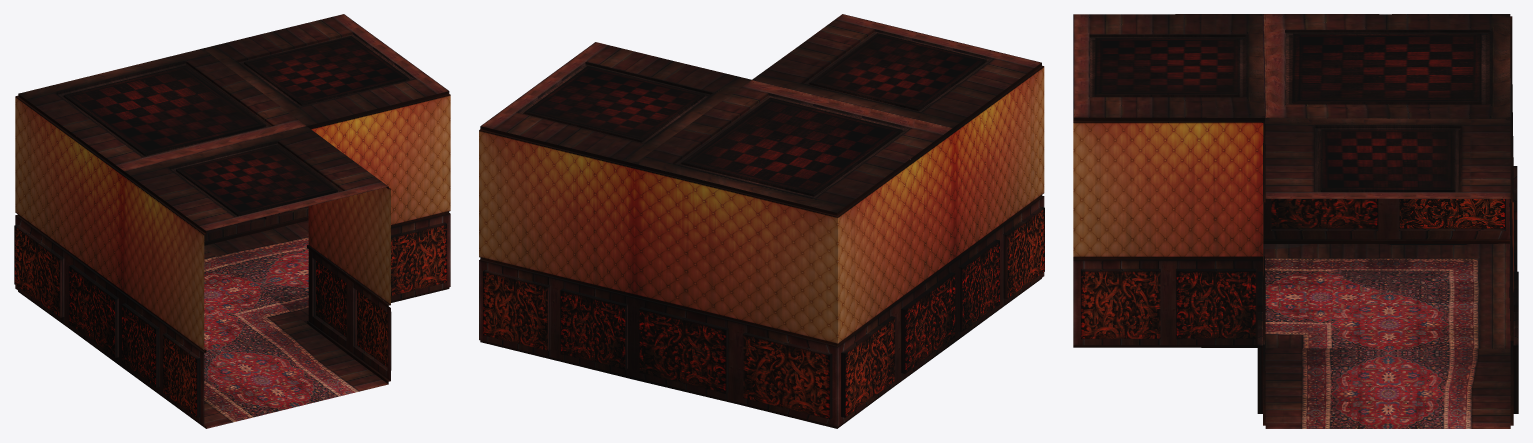
File: HallCorner.FBX
The picture shows the model from 3 angles, left to right: view 1: azimuth 30°, elevation 25°; view 2: azimuth 150°, elevation 25°; view 3: azimuth 270°, elevation 25°; orthographic projection. The views are drawn at different scales.
Parts seen in each view (by area): view 1: HallCornerWithDoors; view 2: HallCornerWithDoors; view 3: HallCornerWithDoors.
Boxes of the visible parts, x1=… form: HallCornerWithDoors: x1=14, y1=14, x2=450, y2=428; HallCornerWithDoors: x1=479, y1=14, x2=1044, y2=428; HallCornerWithDoors: x1=1073, y1=14, x2=1518, y2=428.
Bounding box in the file's own units: 118 × 67.09 × 118.
